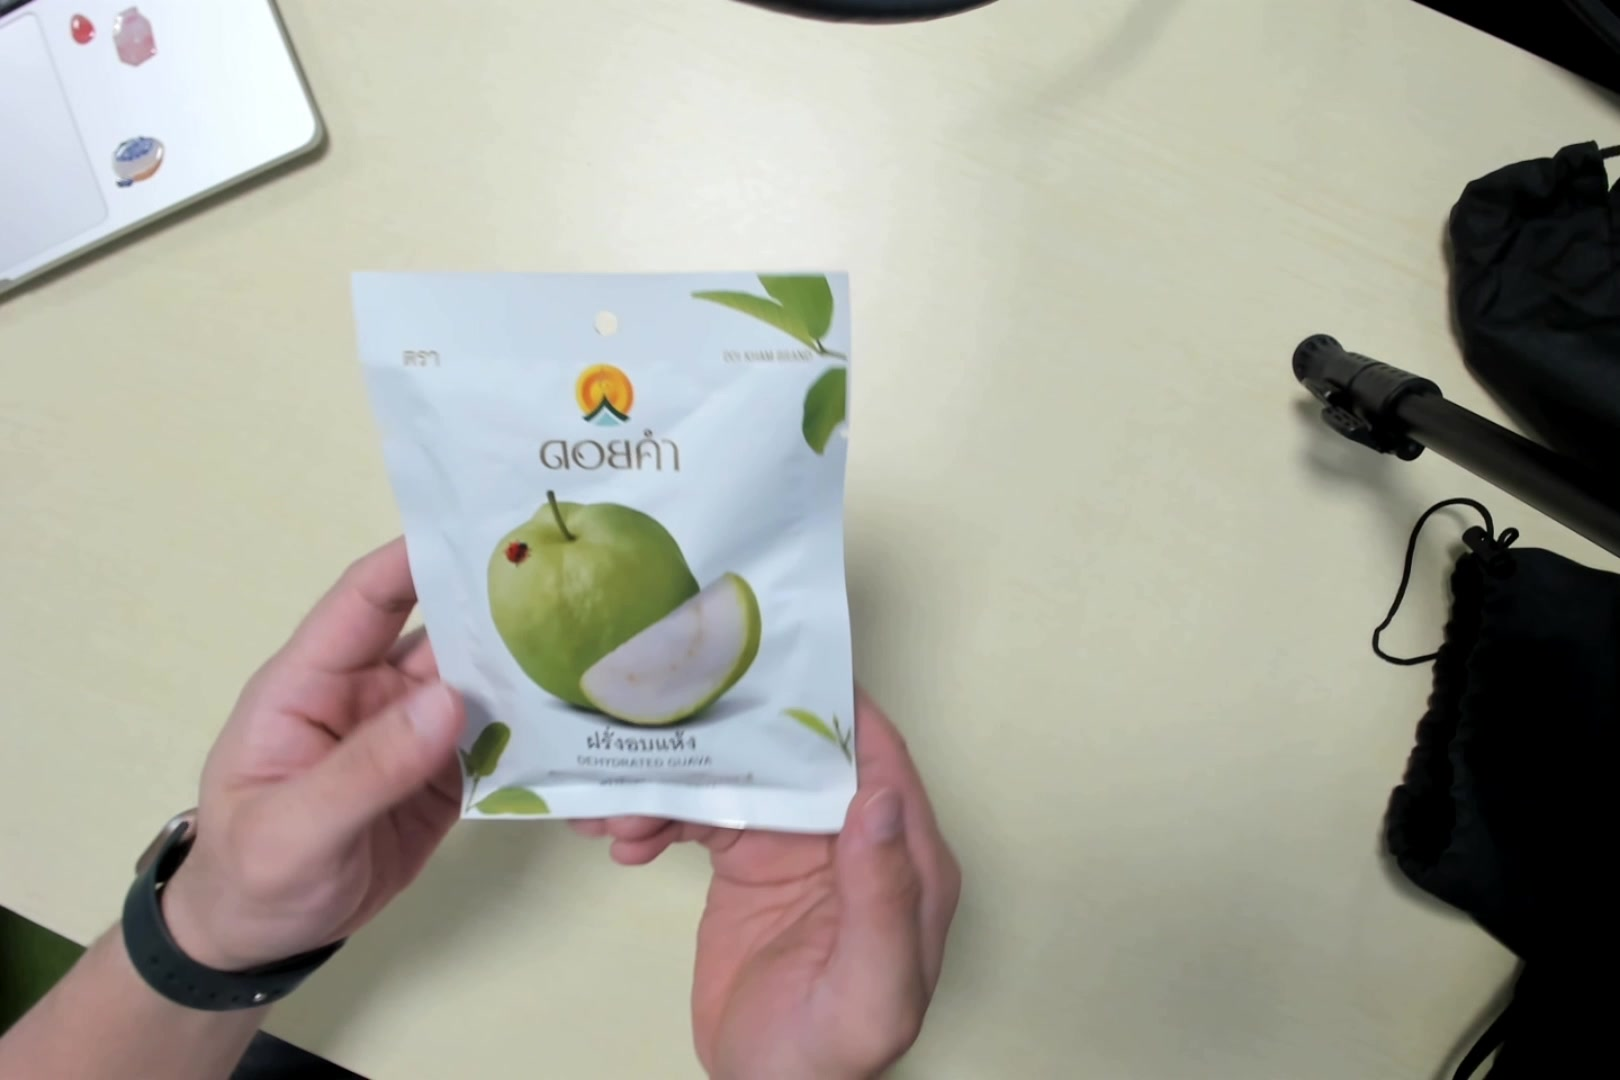DriedFruits_0-99g_Halal_NonHealthy: (357, 278, 859, 837)
